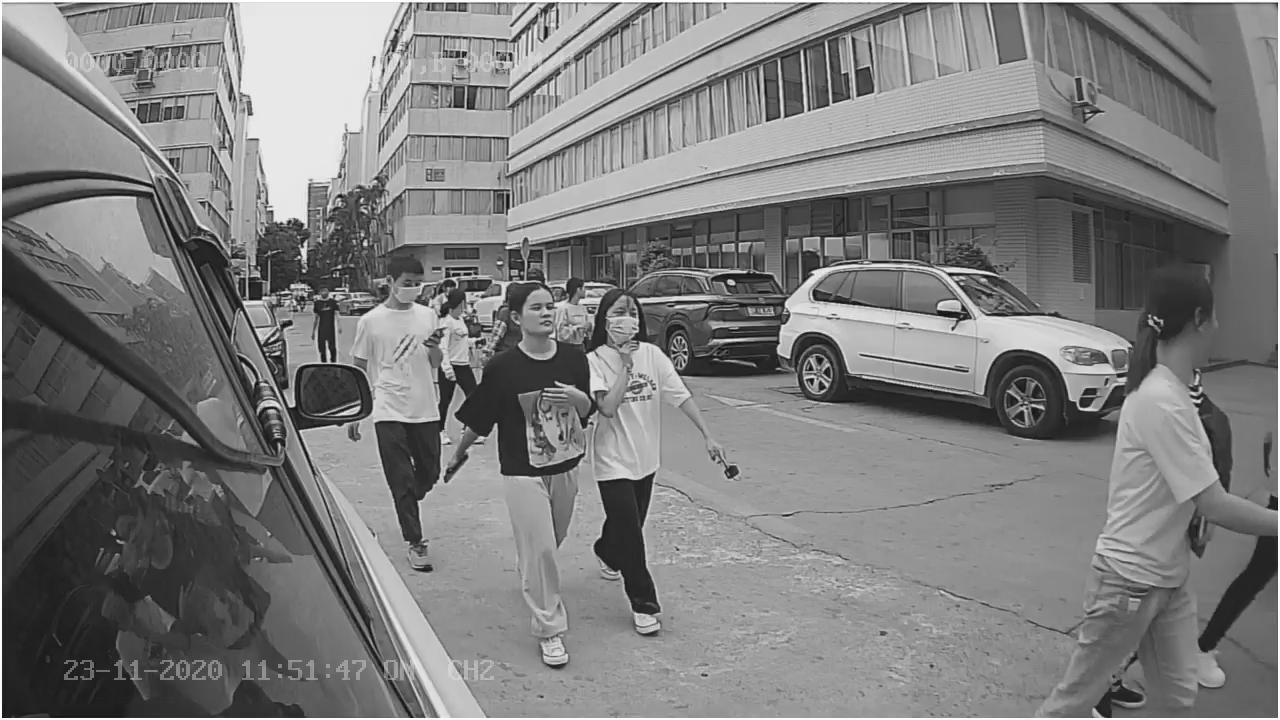person: (449, 270, 592, 667)
